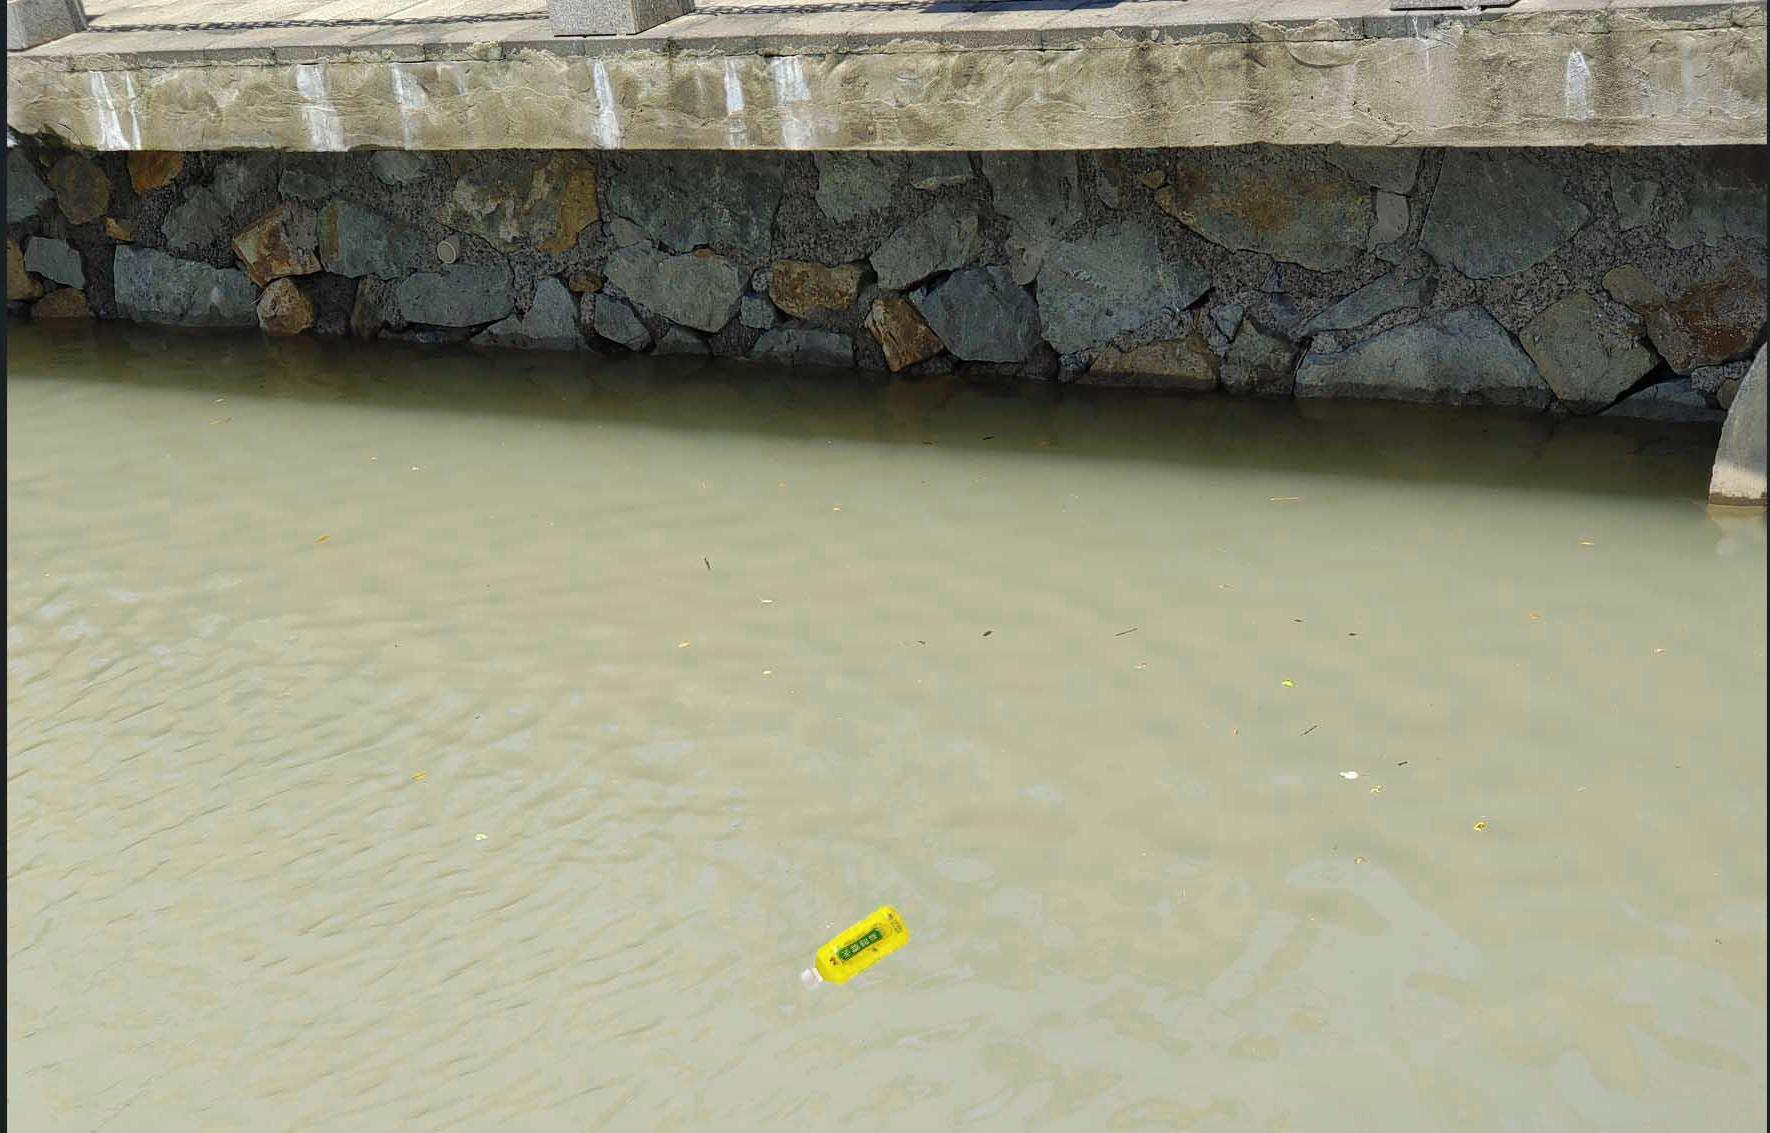Plastic: (797, 905, 915, 994)
